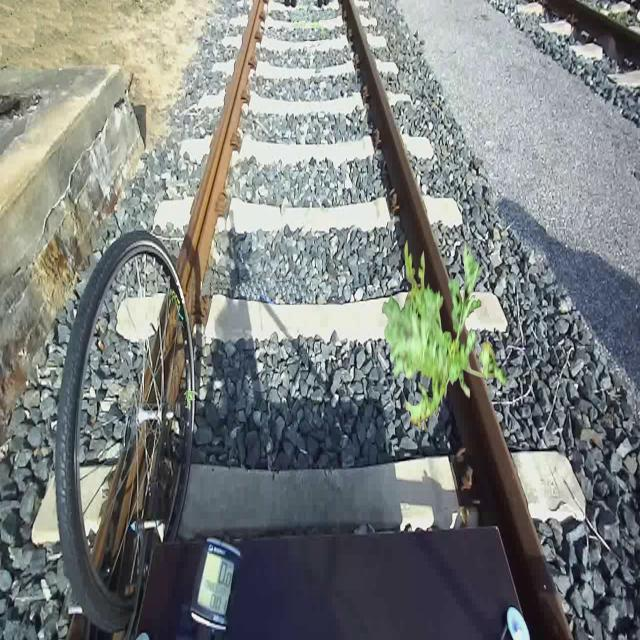Plant: (382, 237, 507, 433), (184, 390, 198, 410)
